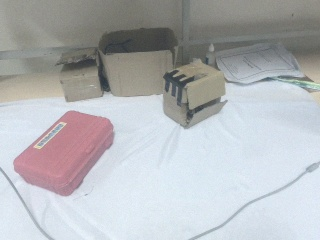box: (10, 107, 116, 196), (97, 25, 181, 98), (163, 59, 226, 127), (57, 46, 102, 104)
